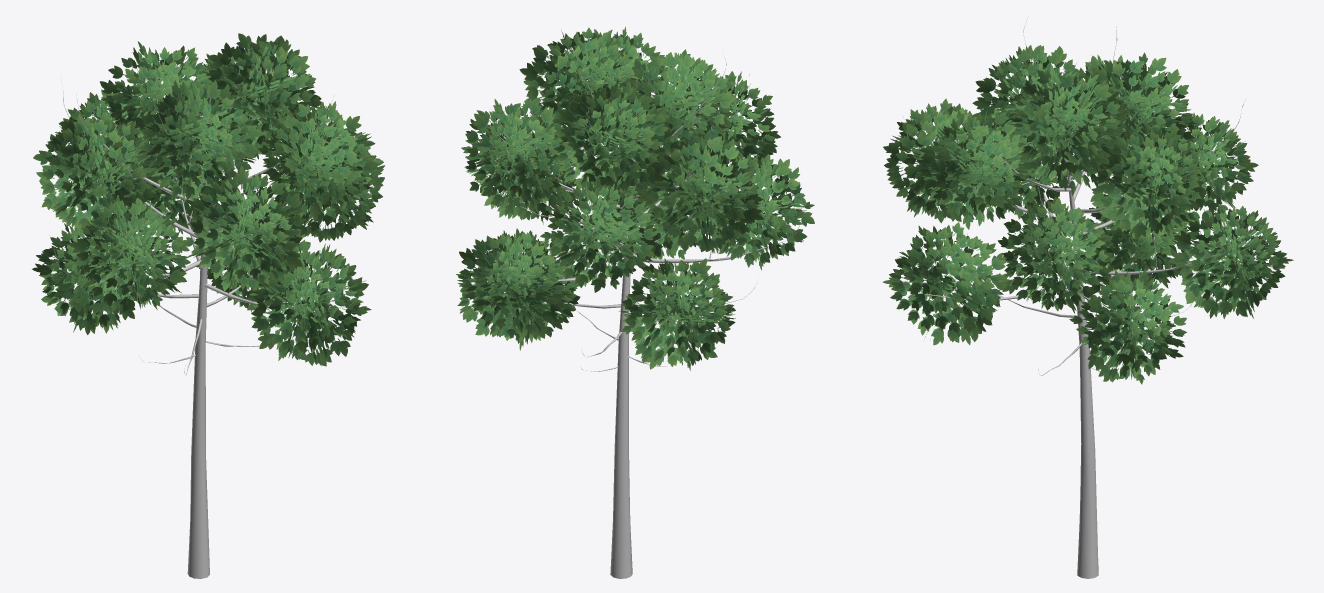
Rendered from tulip_poplar_1.fbx.
3 renders of one model, left to right at view 1: azimuth 30°, elevation 25°; view 2: azimuth 150°, elevation 25°; view 3: azimuth 270°, elevation 25°, orthographic.
Parts seen in each view (by area): view 1: Plane.029, tree.001; view 2: Plane.029, tree.001; view 3: Plane.029, tree.001.
Part boxes in pixels (<box>): Plane.029: <box>32,33,385,366</box>; tree.001: <box>53,48,364,578</box>; Plane.029: <box>456,27,814,370</box>; tree.001: <box>492,40,802,578</box>; Plane.029: <box>882,45,1293,384</box>; tree.001: <box>904,26,1246,578</box>.
Bounding box in the file's own units: 2486 × 3674 × 2812.
